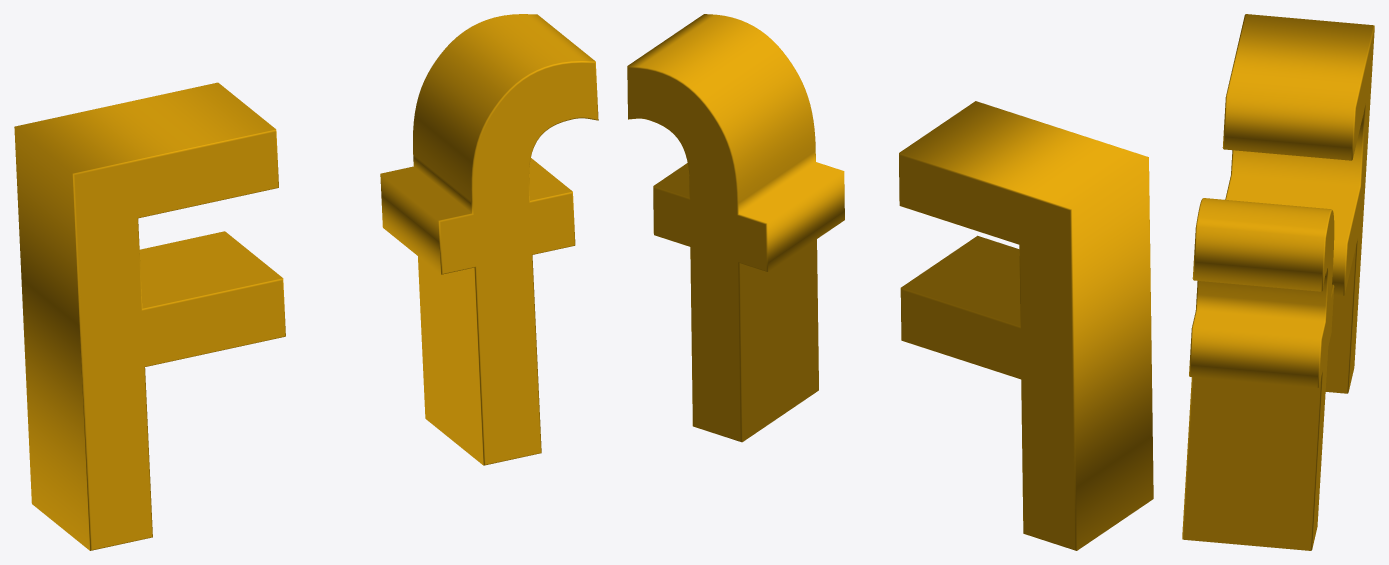
The model's file is ObjectF.fbx.
3 views of the same model, side by side, from view 1: azimuth 30°, elevation 25°; view 2: azimuth 150°, elevation 25°; view 3: azimuth 270°, elevation 25° (orthographic). The views are drawn at different scales.
Parts seen in each view (by area): view 1: Text; view 2: Text; view 3: Text.
Part boxes in pixels (x1,y1,x2,y2): Text: (14,14,598,550); Text: (627,14,1153,550); Text: (1182,14,1374,550).
Bounding box in the file's own units: 253 × 187 × 90.35.
